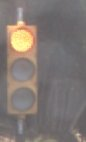Red: (5, 16, 39, 127)
